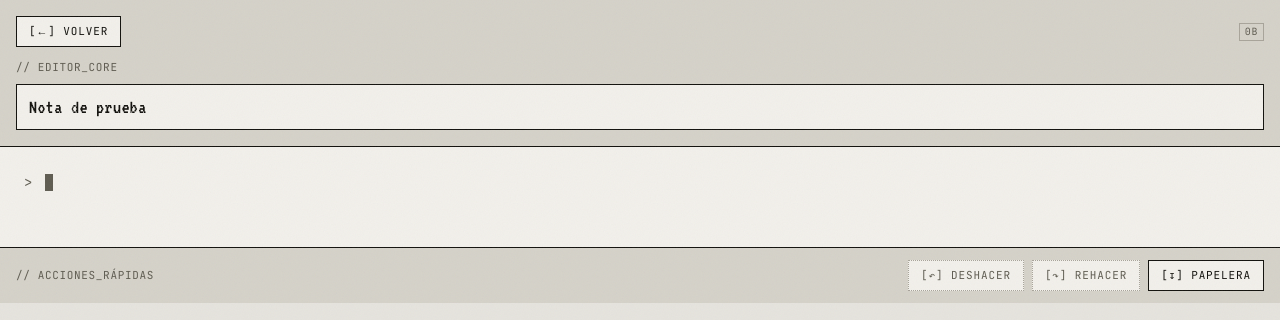
Test: NoteEditor · secuencia de arranque › escribir corta la animación y devuelve el cursor real
This screenshot has width=1280, height=320.
Type "H" into the text box named "contenido de la nota".
click(644, 194); type("H")  # box x1=24 y1=171 x2=1264 y2=216
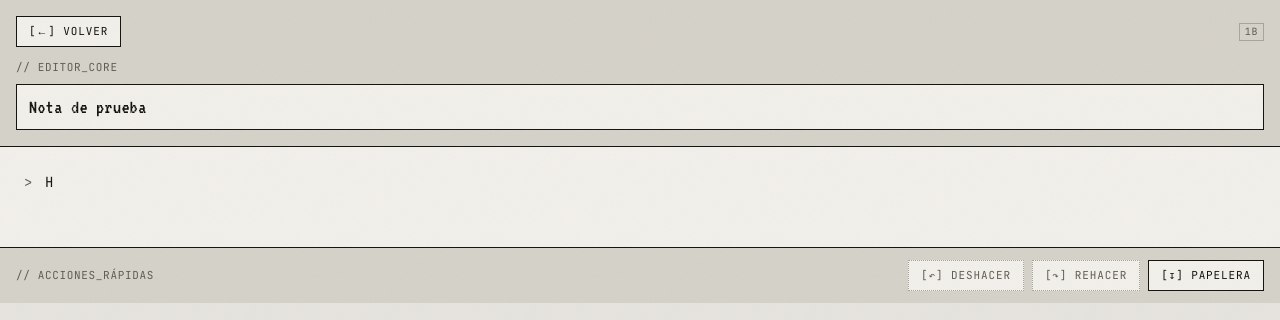
Expected: the element with class "editor-placeholder" is gone
